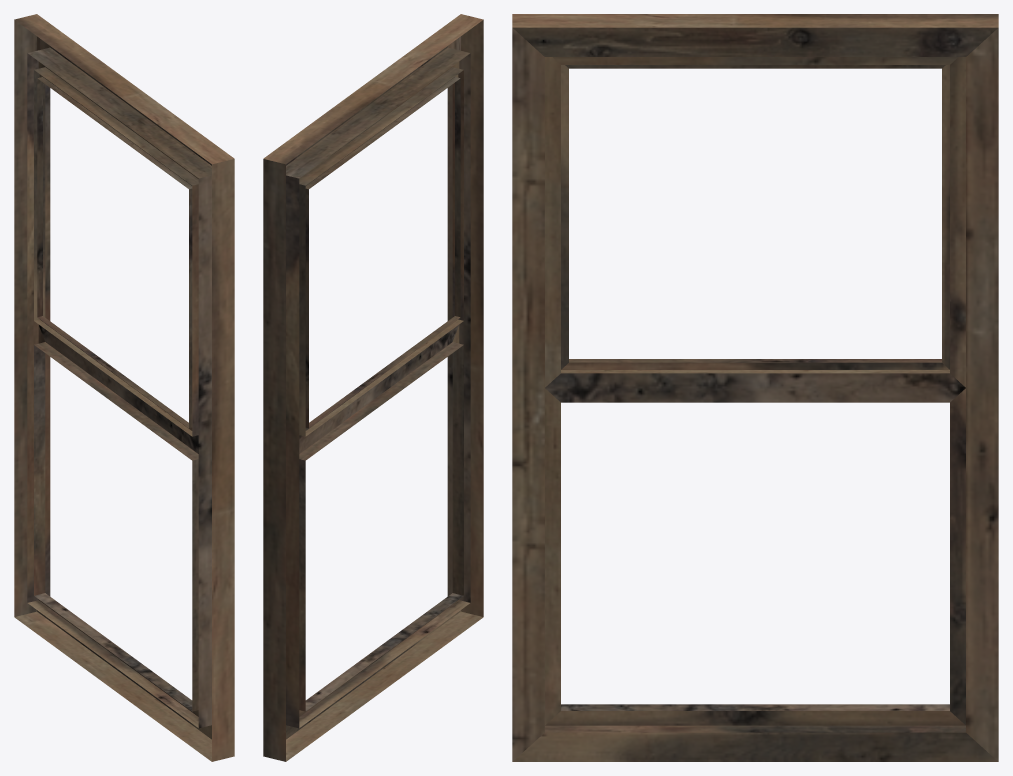
File: Window.FBX
3 views of the same model, side by side, from view 1: azimuth 30°, elevation 25°; view 2: azimuth 150°, elevation 25°; view 3: azimuth 270°, elevation 25° (orthographic). The views are drawn at different scales.
Visible parts, largest first — view 1: Box001; view 2: Box001; view 3: Box001.
Part boxes in pixels (x1=…): Box001: x1=14, y1=14, x2=234, y2=761; Box001: x1=263, y1=14, x2=483, y2=761; Box001: x1=512, y1=14, x2=998, y2=761.
Size of the model in its own units: 8 by 200 by 120.
Materials: 1 (1 with a texture image).
